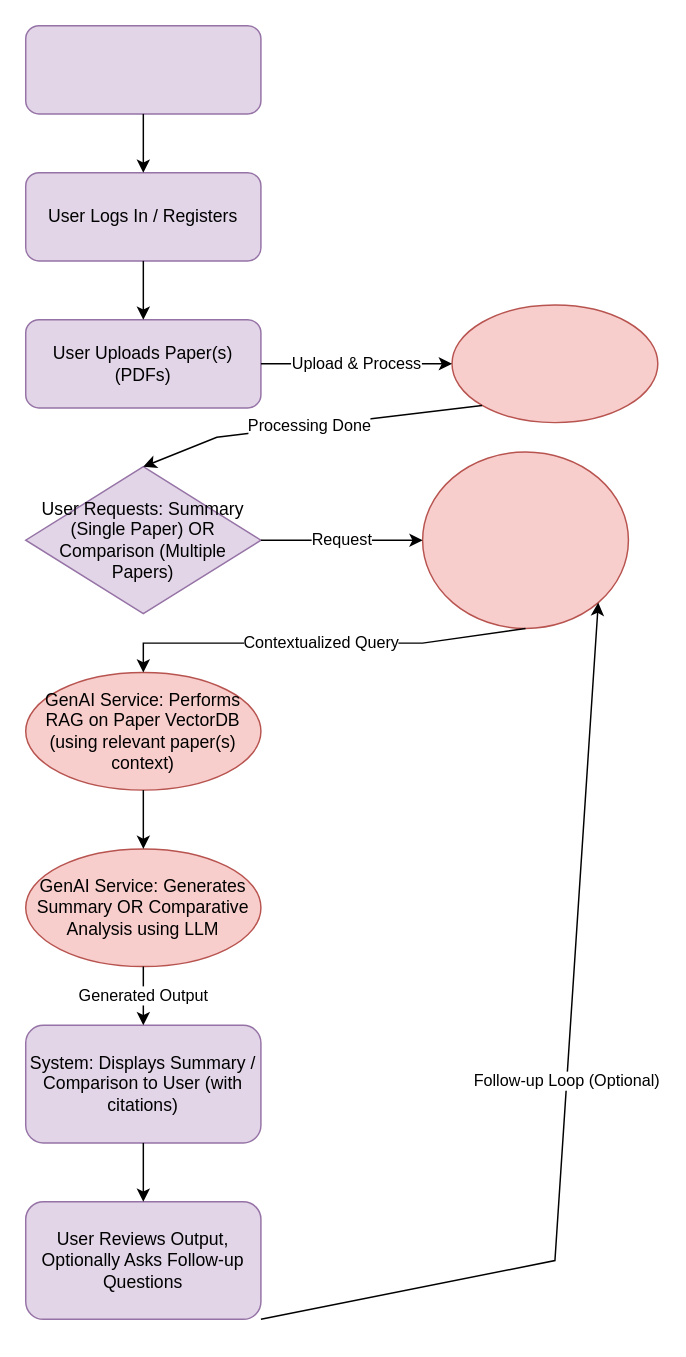
Some shapes in this 686 by 1357 pixel diagram are drawn without their labels. The centre of each missing label's shape, as x and y in pixels:
System: Sends Request & Paper Context to GenAI Service: (524,539)
System: Stores Metadata (DB) & Sends to GenAI for Indexing (VectorDB): (554,363)
User Starts Application: (142,69)
